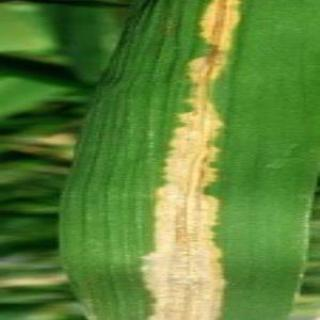Hawar-Daun: (143, 0, 238, 319)
